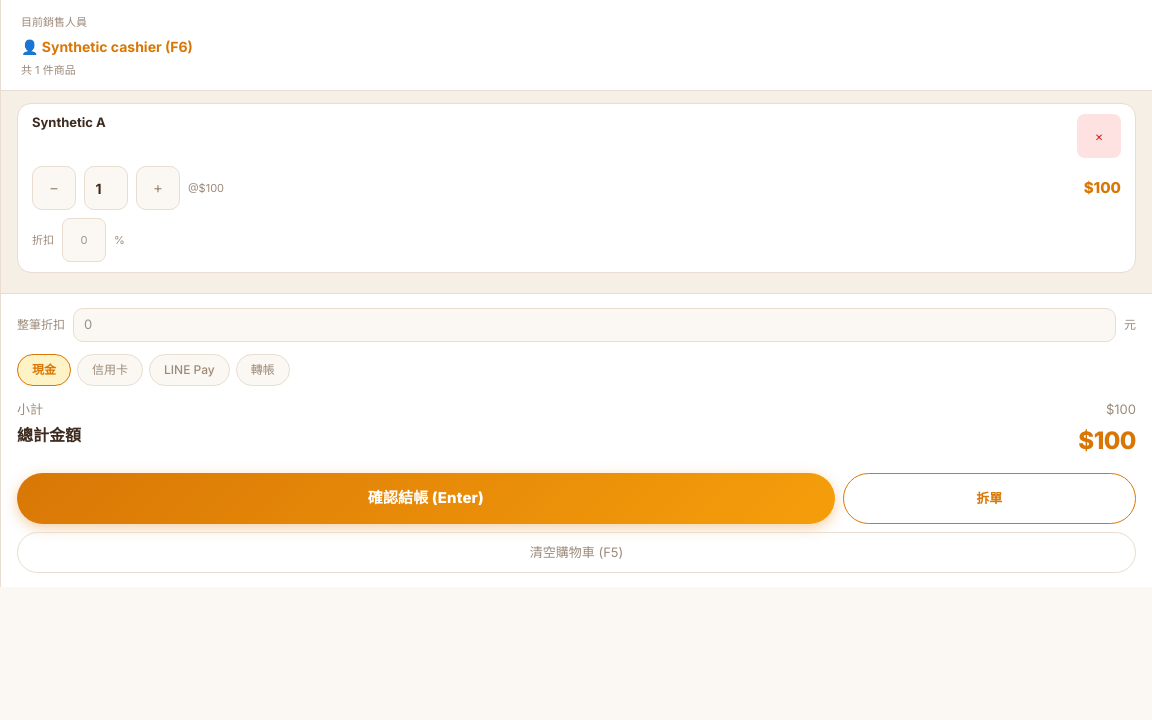
Scenario: CartPanel clear confirmation belongs to its editable draft › still clears the same editable draft on the second click
Click the button "清空購物車 (F5)".
click(576, 552)  # box [17,532,1136,573]
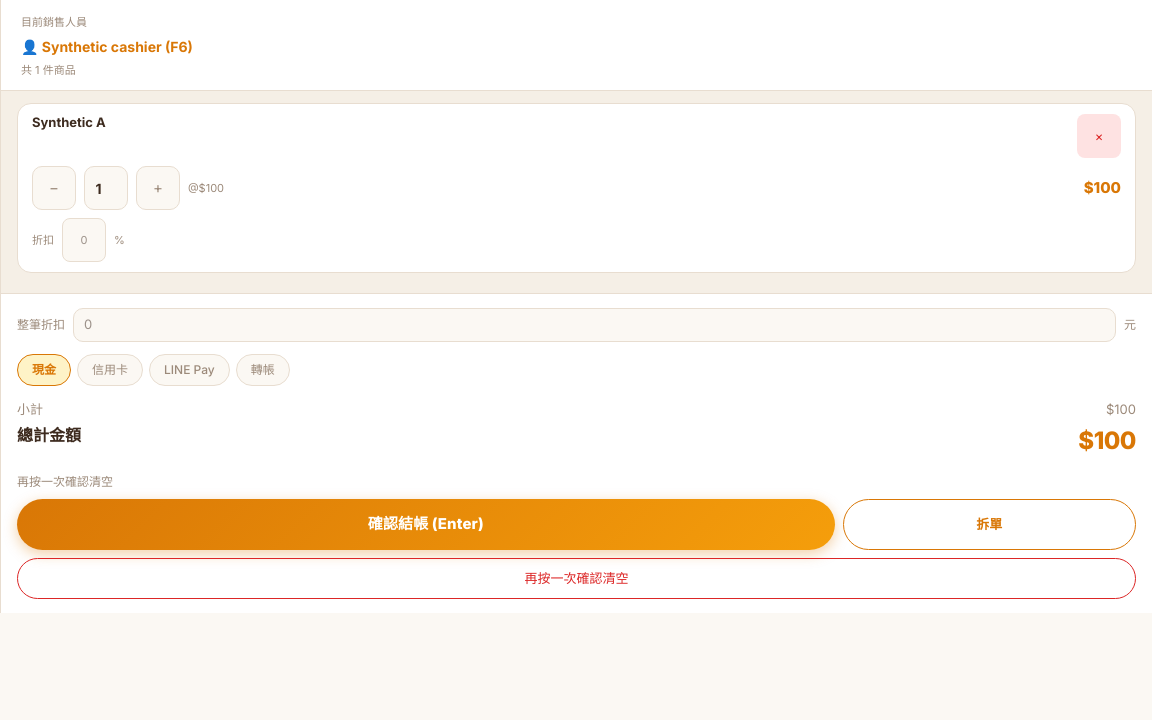
Click the button "再按一次確認清空".
click(576, 578)  # box [17,558,1136,599]
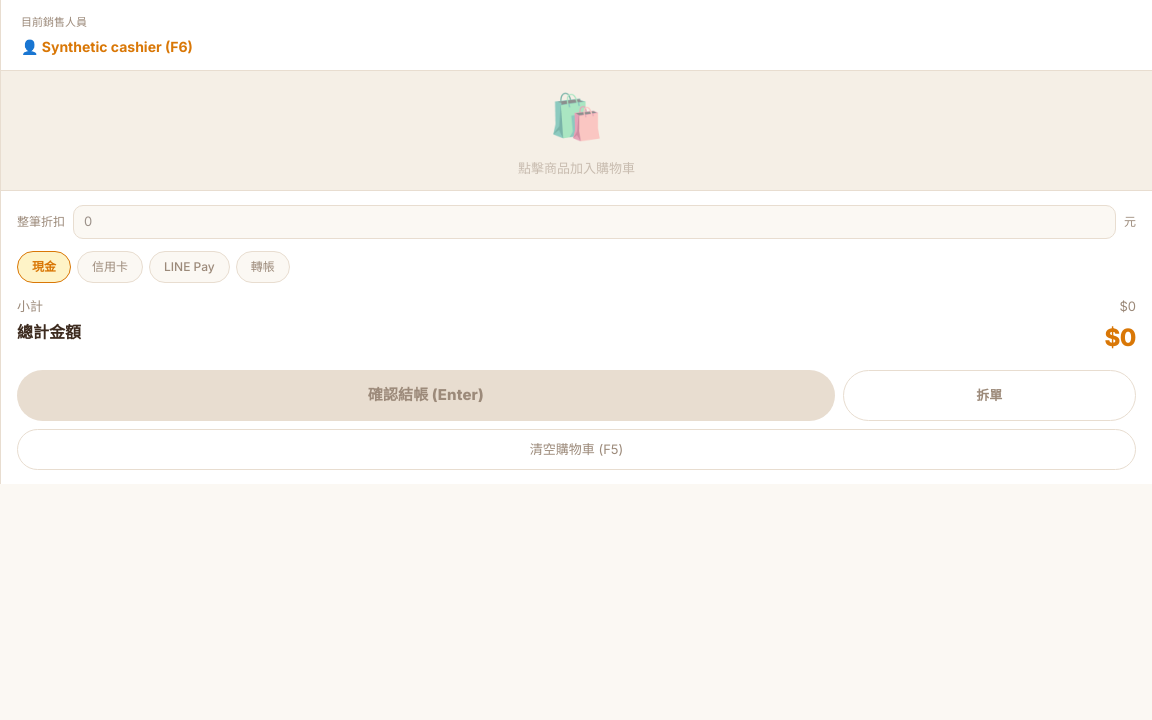
Expected: the message "再按一次確認清空" is gone
